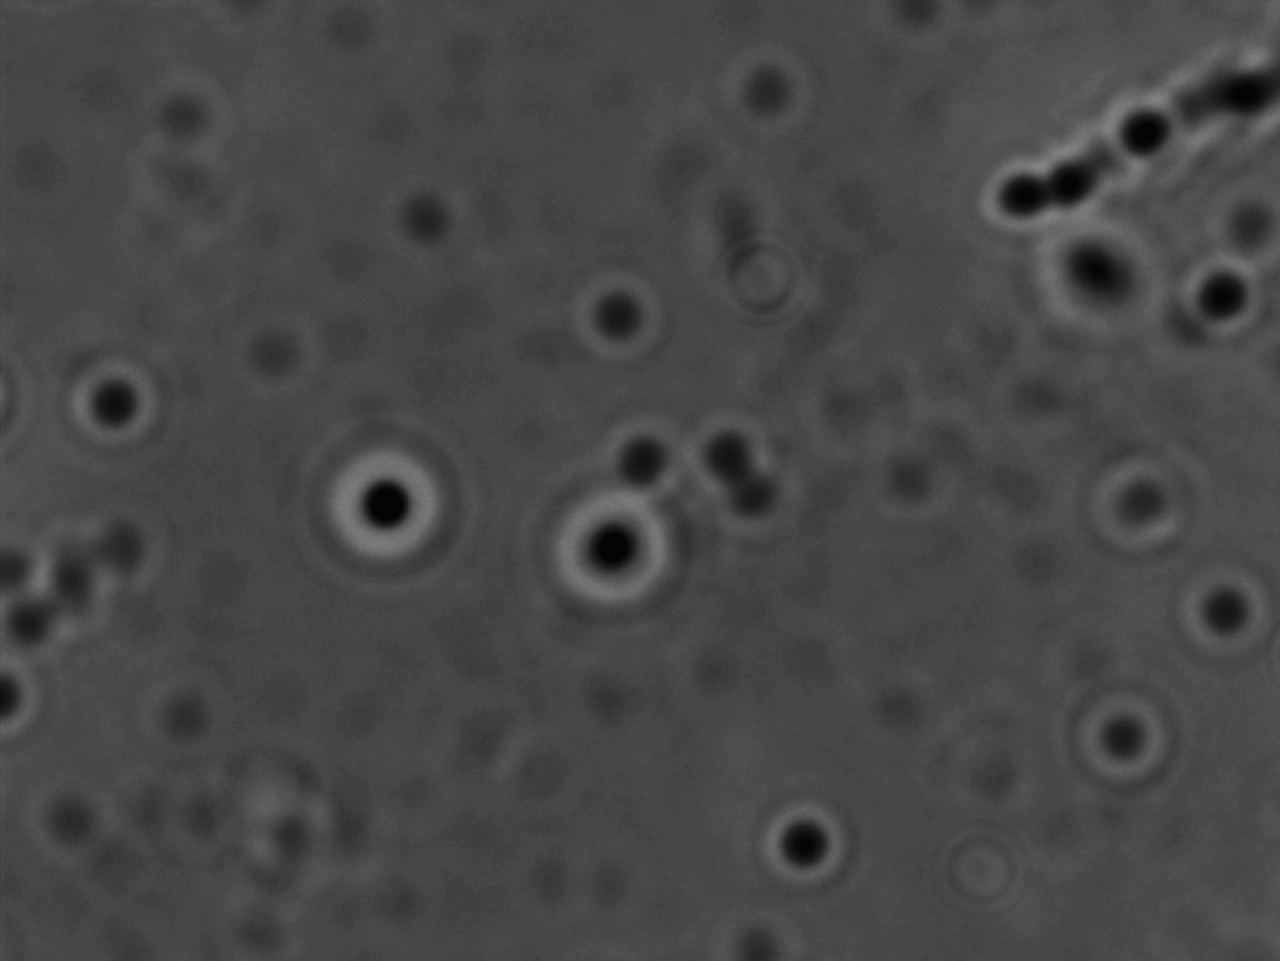depth:-32: (290, 426, 475, 596), (525, 457, 689, 629)
